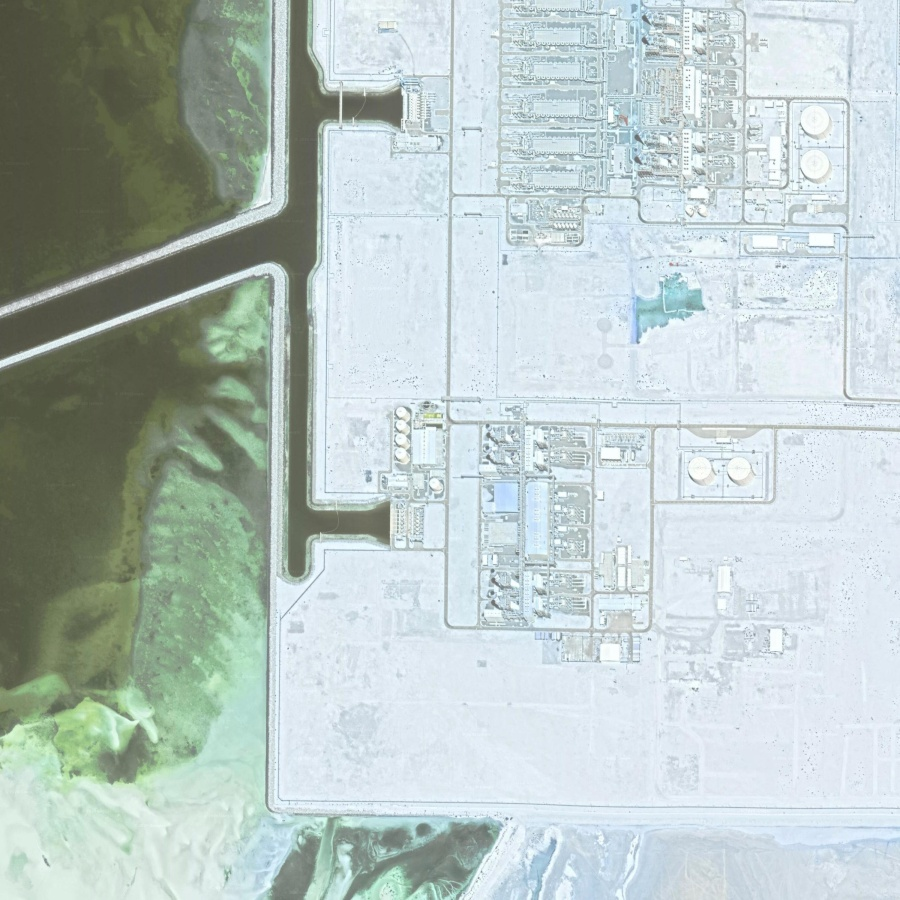PowerPlant: (383, 387, 797, 671)
